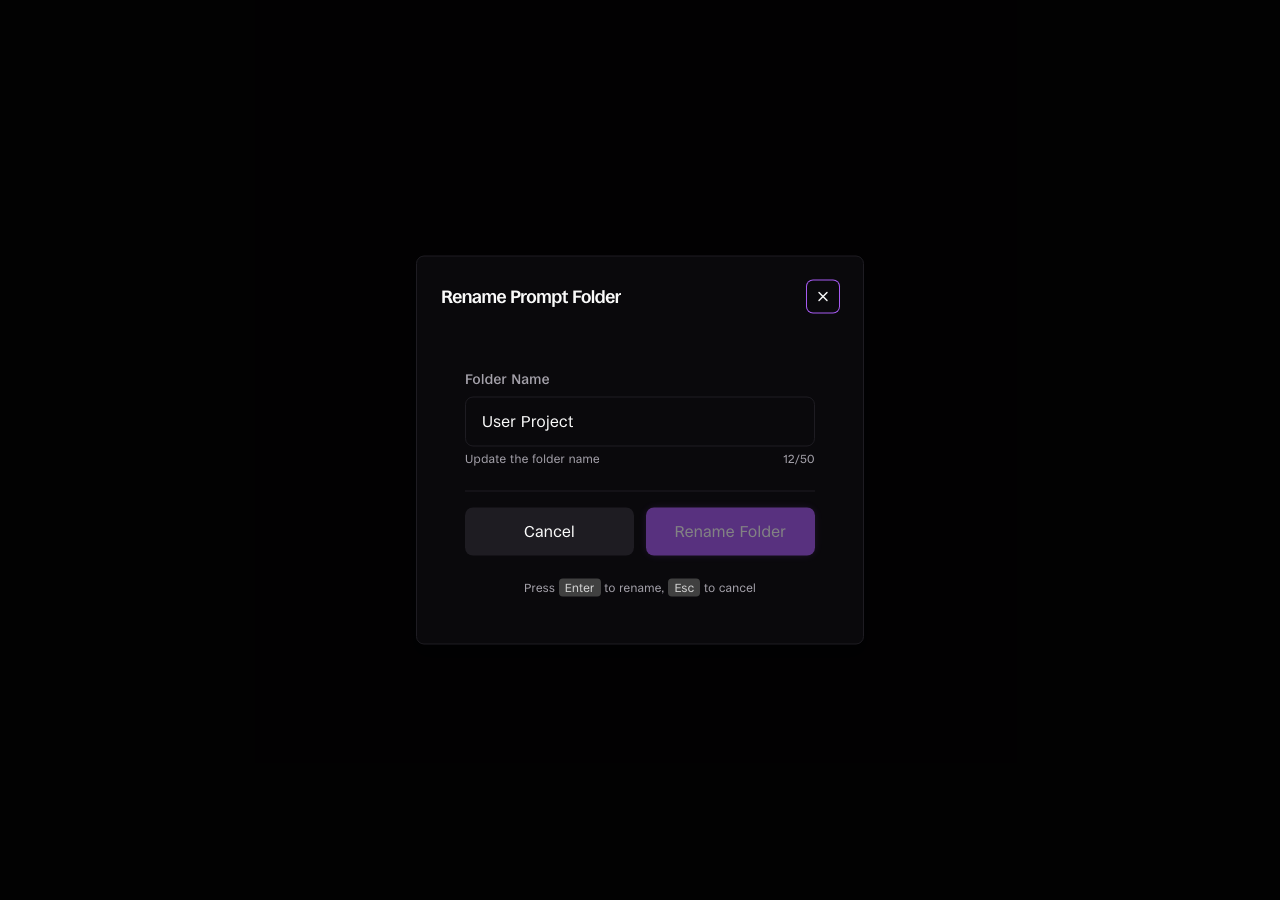
Test: Folder Operations Error Handling › Concurrent Modification Handling › should handle concurrent modification during rename
The width and height of the screenshot is (1280, 900).
Replace the text in the field labelled "Folder Name" with "Conflicting Name" at (640, 422), box [465, 396, 815, 446]
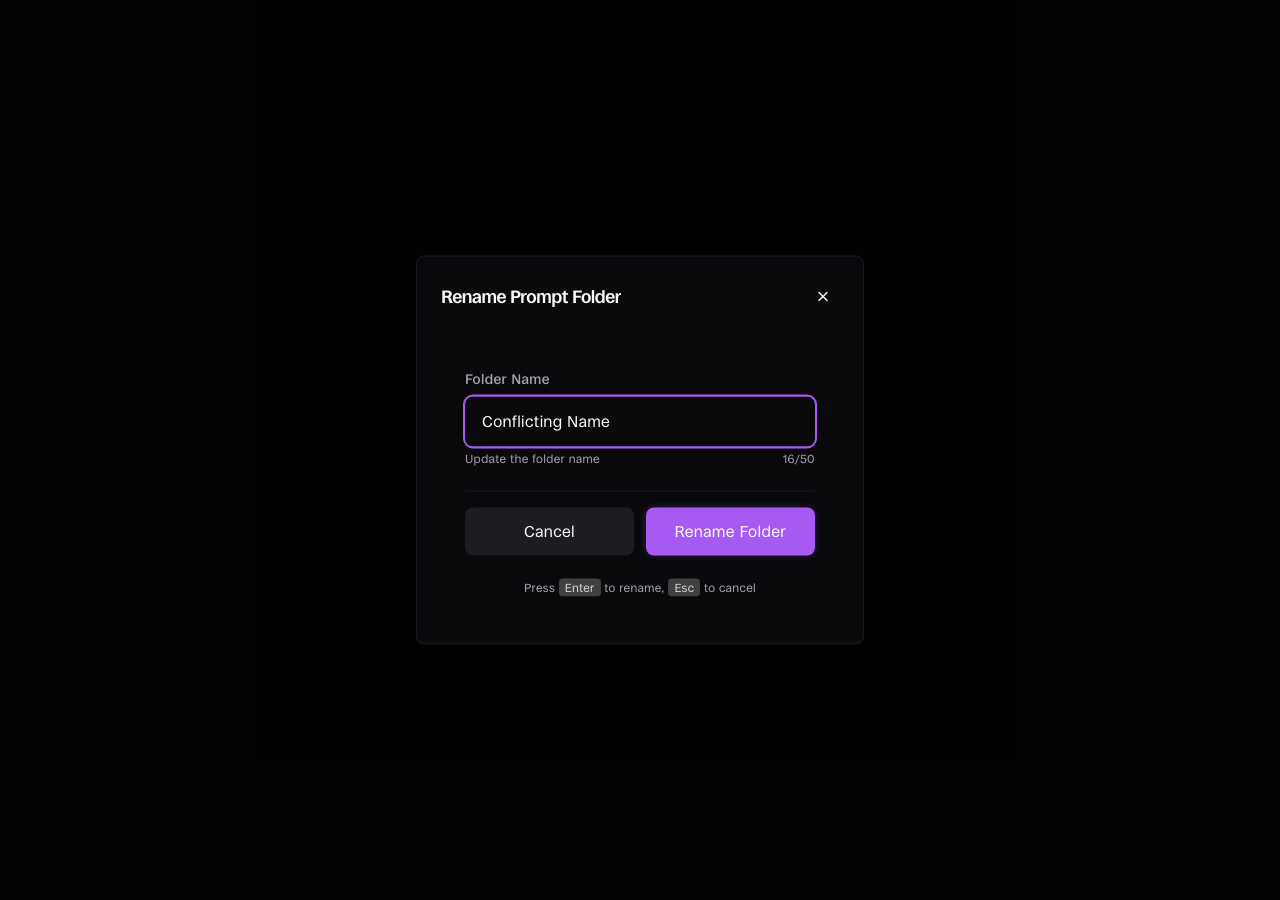
Click the button "Rename Folder" at (730, 532), box [646, 508, 815, 556]
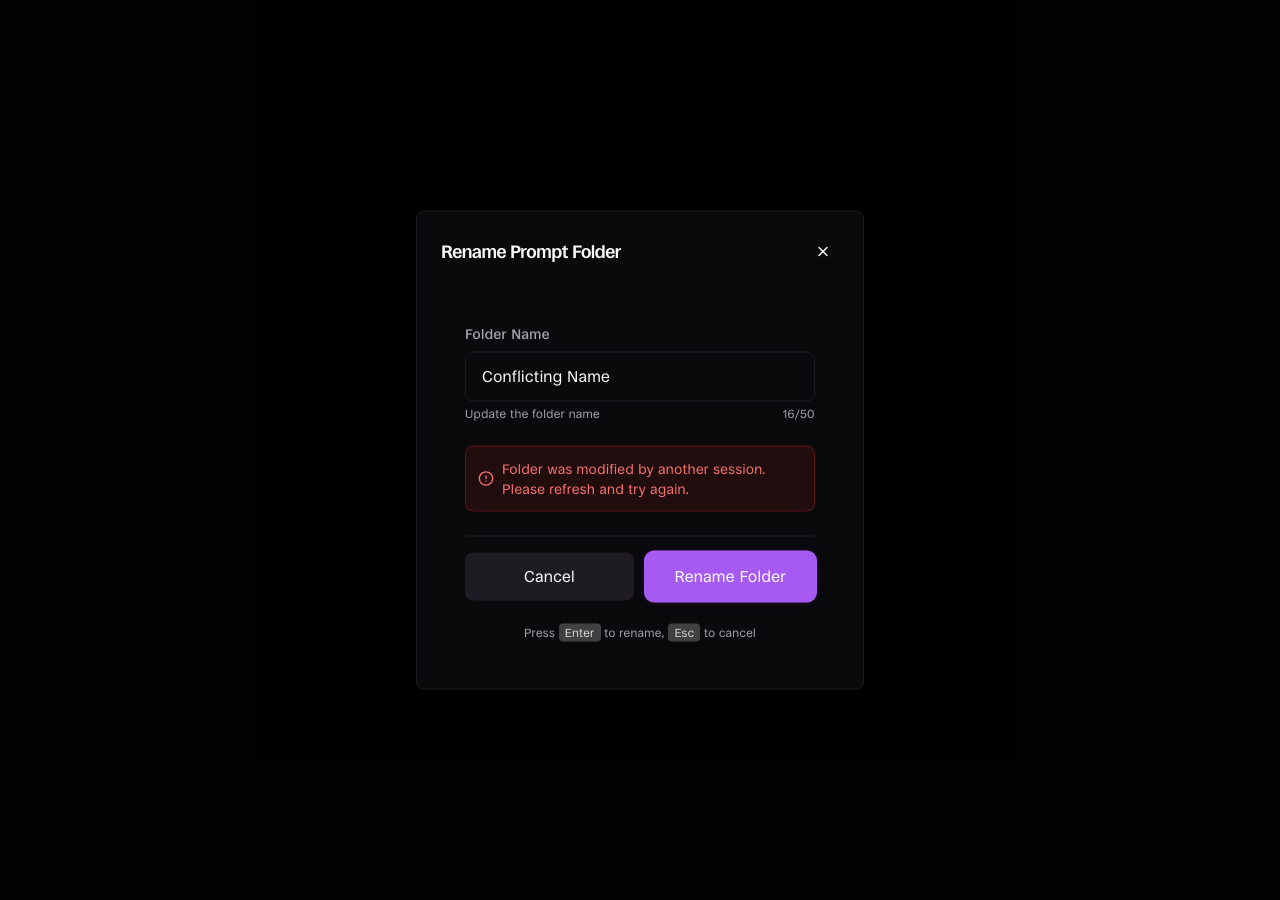
Check: the text "Please refresh and try again" is shown, box [502, 460, 766, 496]
